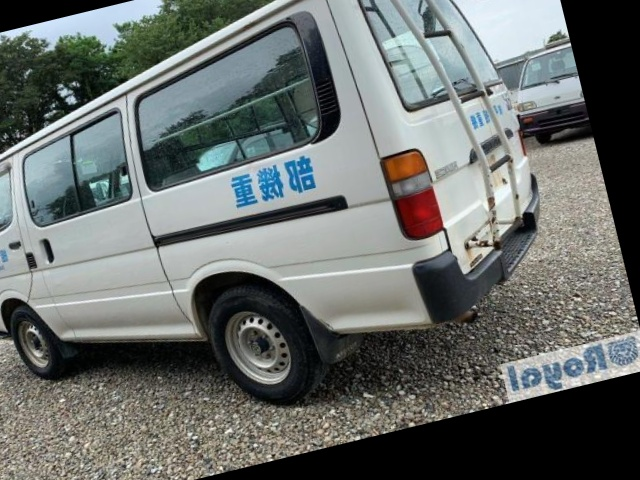van: (0, 0, 566, 455)
